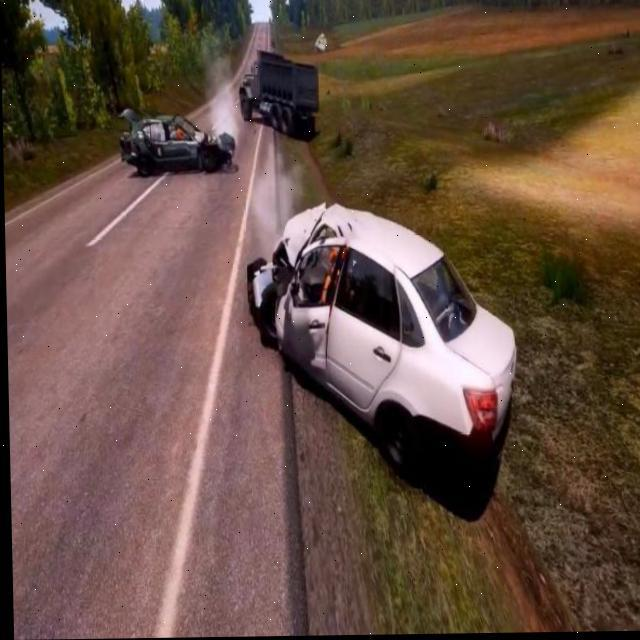multiple_accident: (237, 177, 517, 513), (106, 97, 238, 198), (217, 48, 340, 152)
